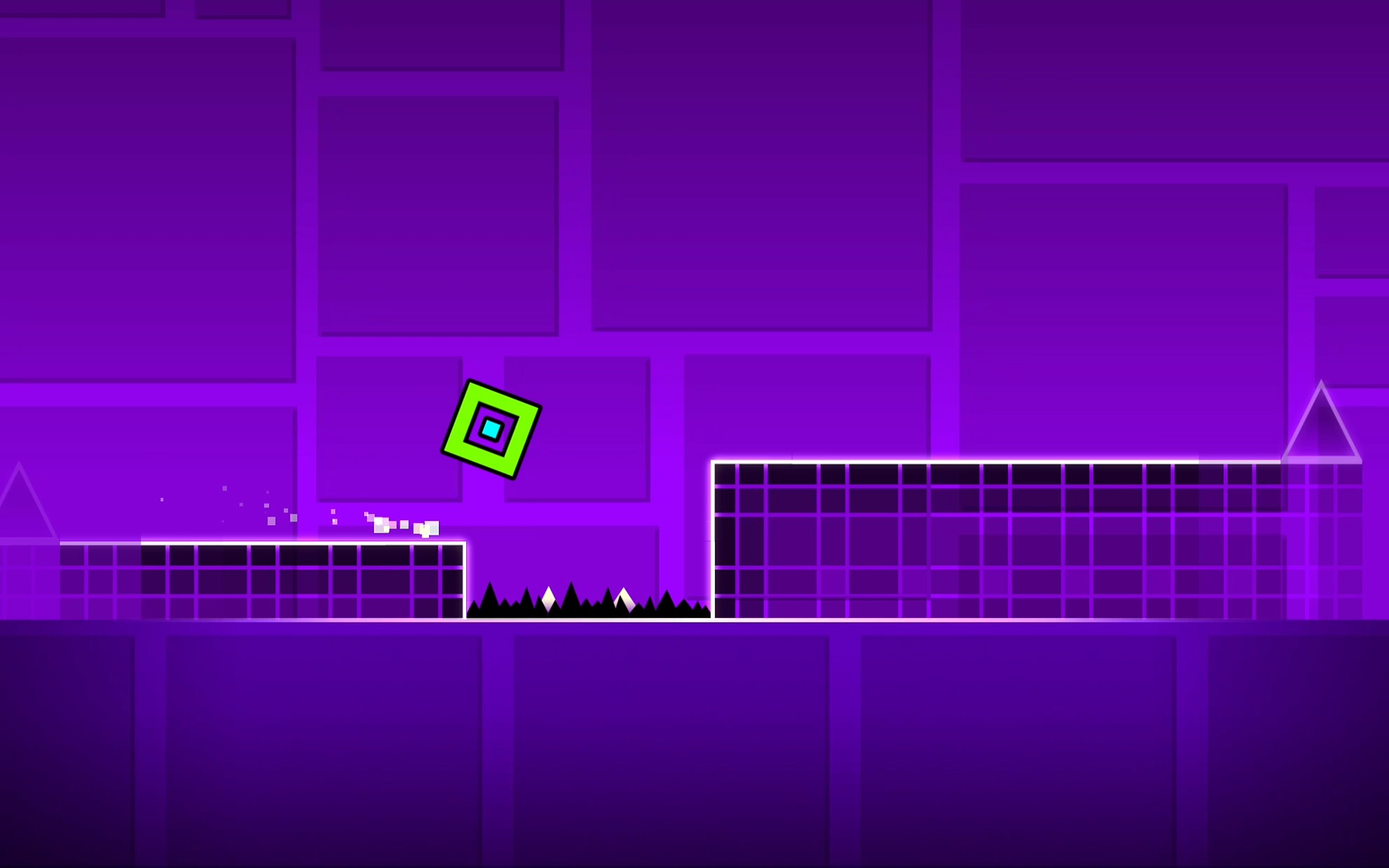Block2: (713, 459, 1364, 614), (2, 541, 463, 617)
Player: (440, 379, 541, 477)
Spike: (1283, 383, 1362, 461)
Spike3: (466, 582, 709, 622)
